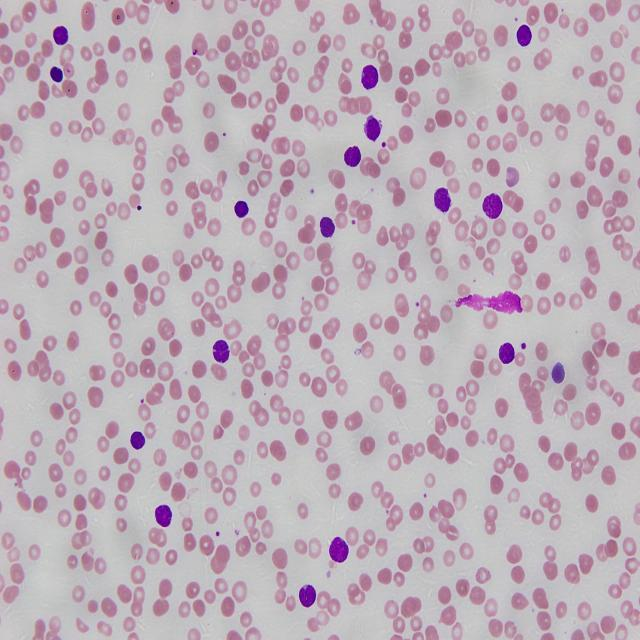cell: (329, 537, 349, 563), (361, 65, 379, 90), (434, 187, 451, 212), (299, 585, 316, 608), (155, 505, 172, 527), (344, 147, 361, 167), (516, 25, 531, 47), (499, 343, 515, 363), (320, 217, 335, 238), (52, 27, 69, 45), (130, 432, 145, 450), (234, 202, 249, 218), (50, 67, 62, 83)
